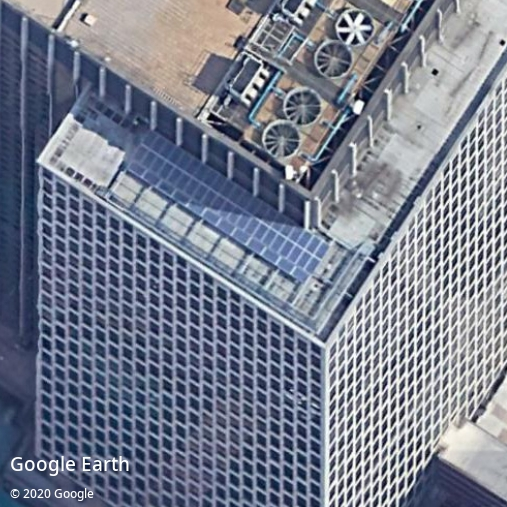Vent: (283, 87, 321, 125), (335, 9, 374, 46), (262, 120, 300, 157), (316, 41, 353, 78)
